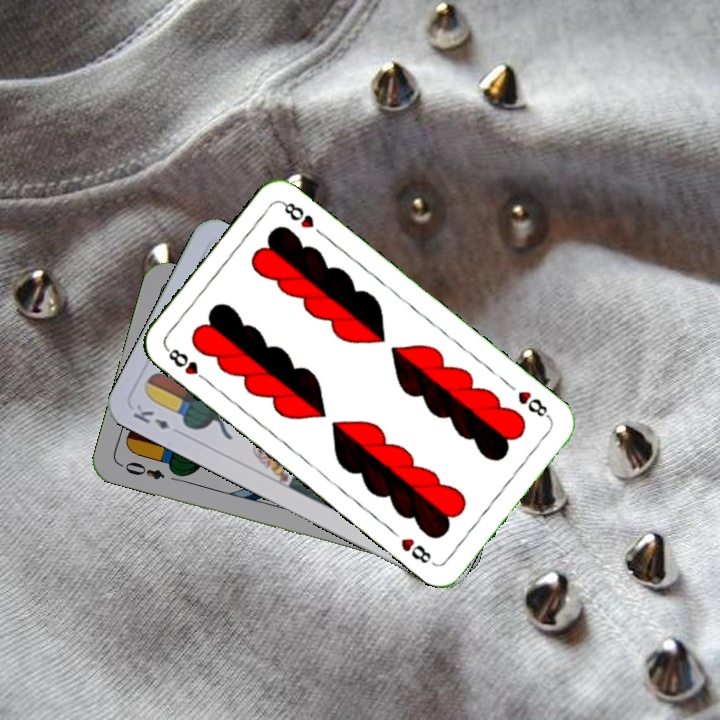EK: (129, 400, 173, 432)
EO: (116, 457, 167, 483)
H8: (161, 343, 212, 386), (513, 386, 554, 423)
